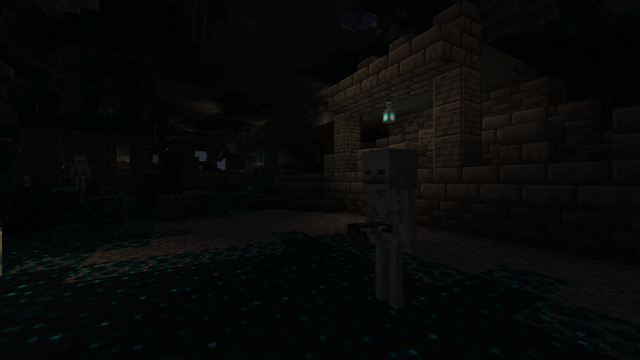squelettes: (356, 148, 422, 318), (71, 155, 88, 190)
